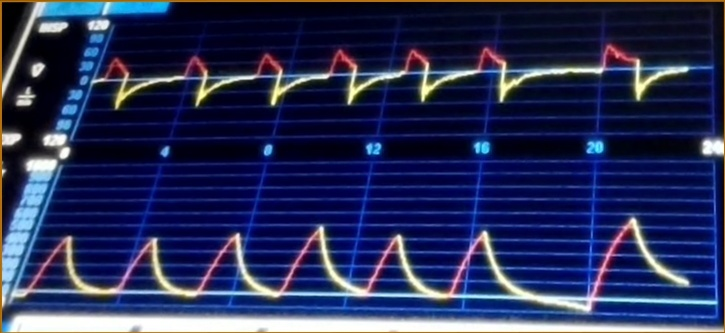Accumulation Flow: (105, 42, 685, 136)
Volume: (38, 212, 685, 314)
